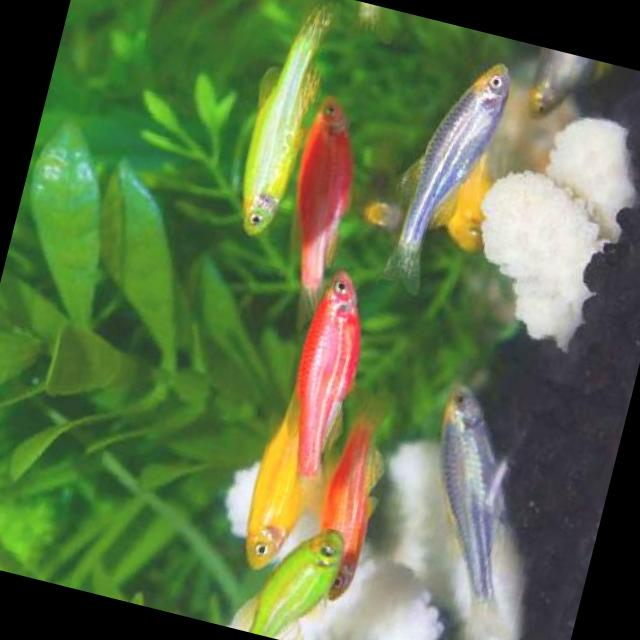ZebraFish: (400, 376, 545, 604), (381, 40, 523, 266), (223, 0, 338, 240), (267, 264, 381, 486)
